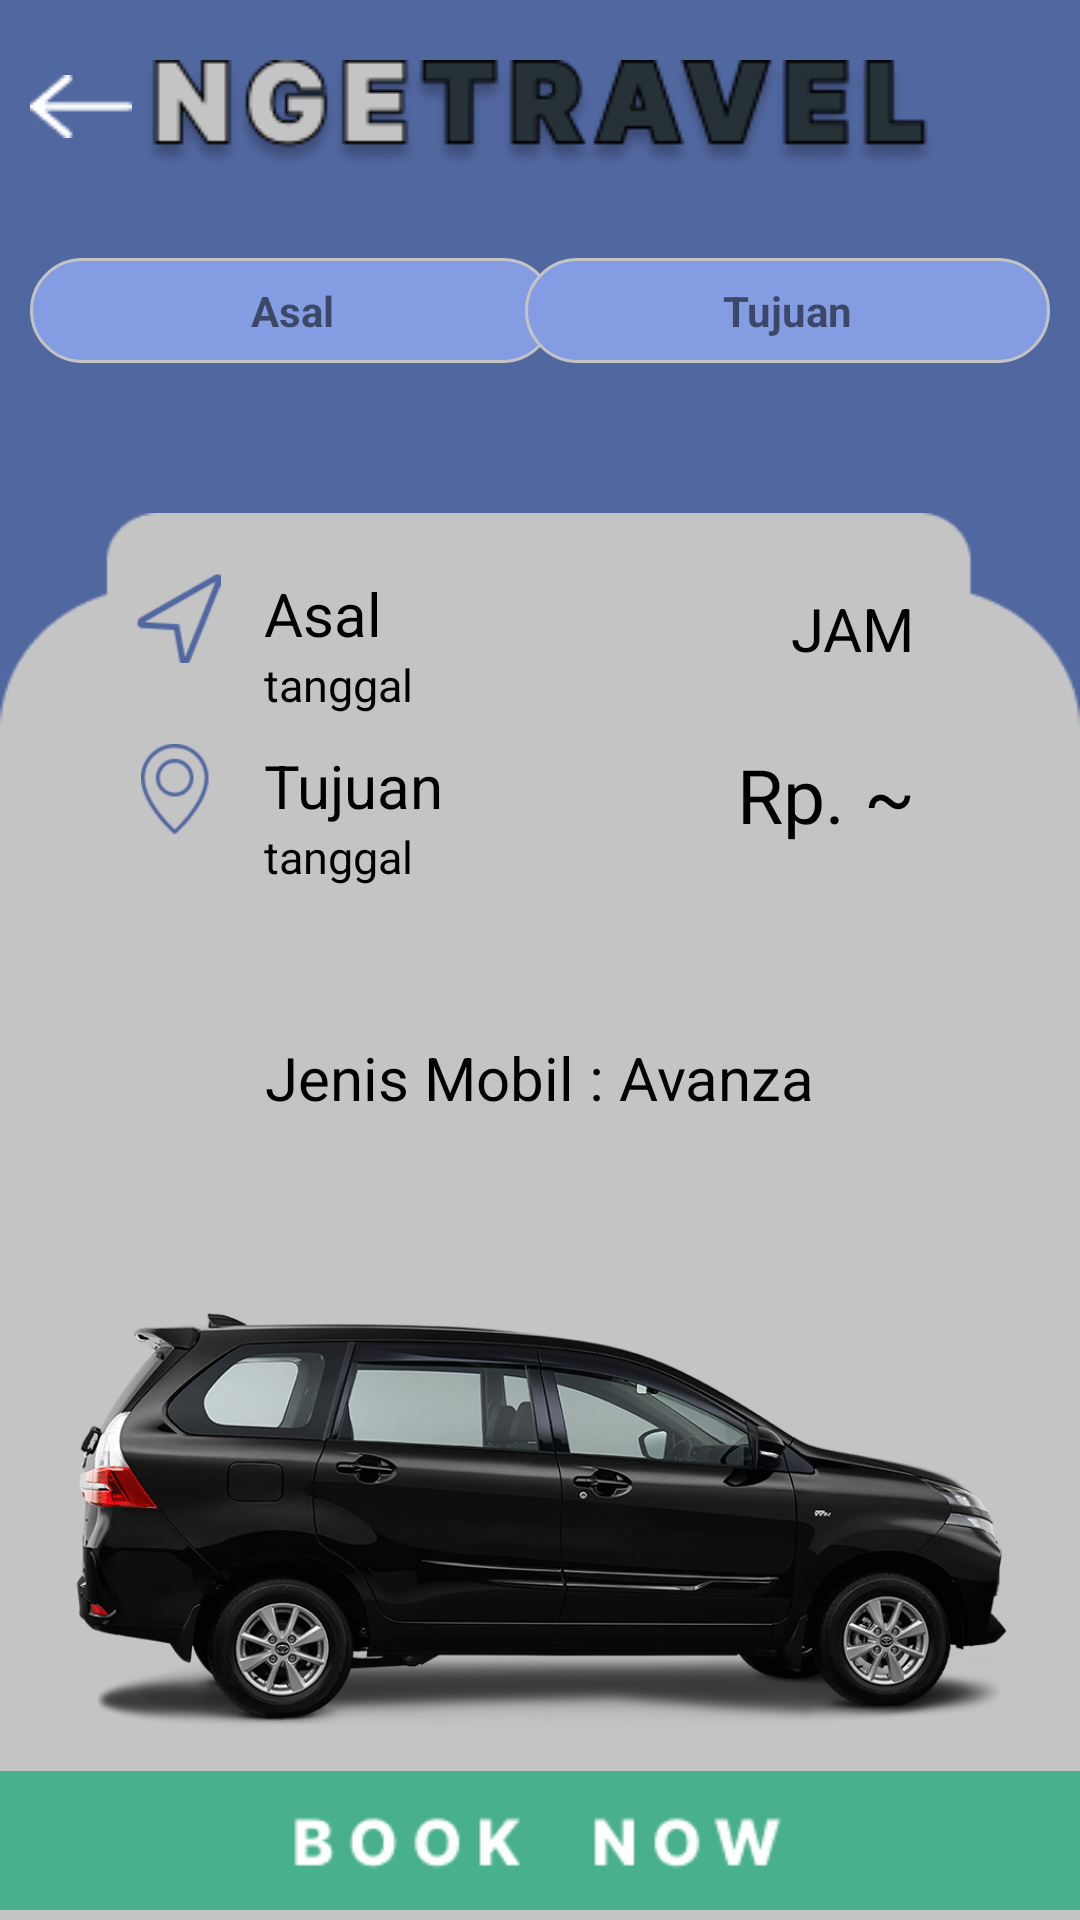

Icon click points for this 1080w x 1920h phone screenshot, format [x,y]:
loc: [175,789]
send: [179,618]
